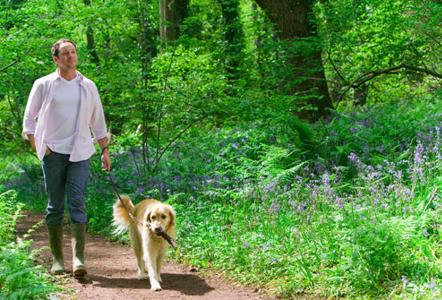person: (23, 39, 113, 279)
